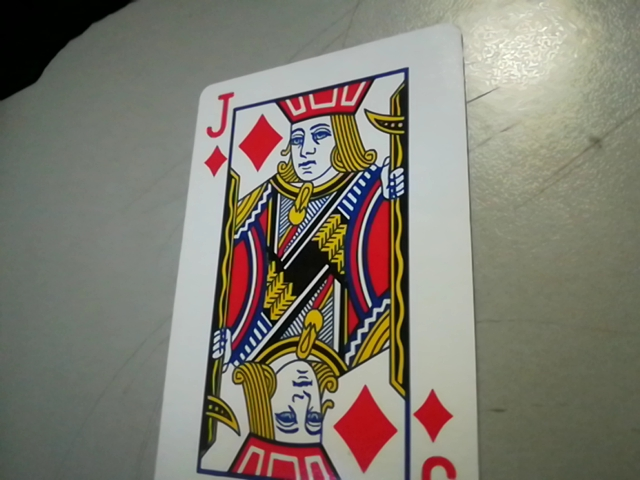fk j: (189, 89, 238, 175)
